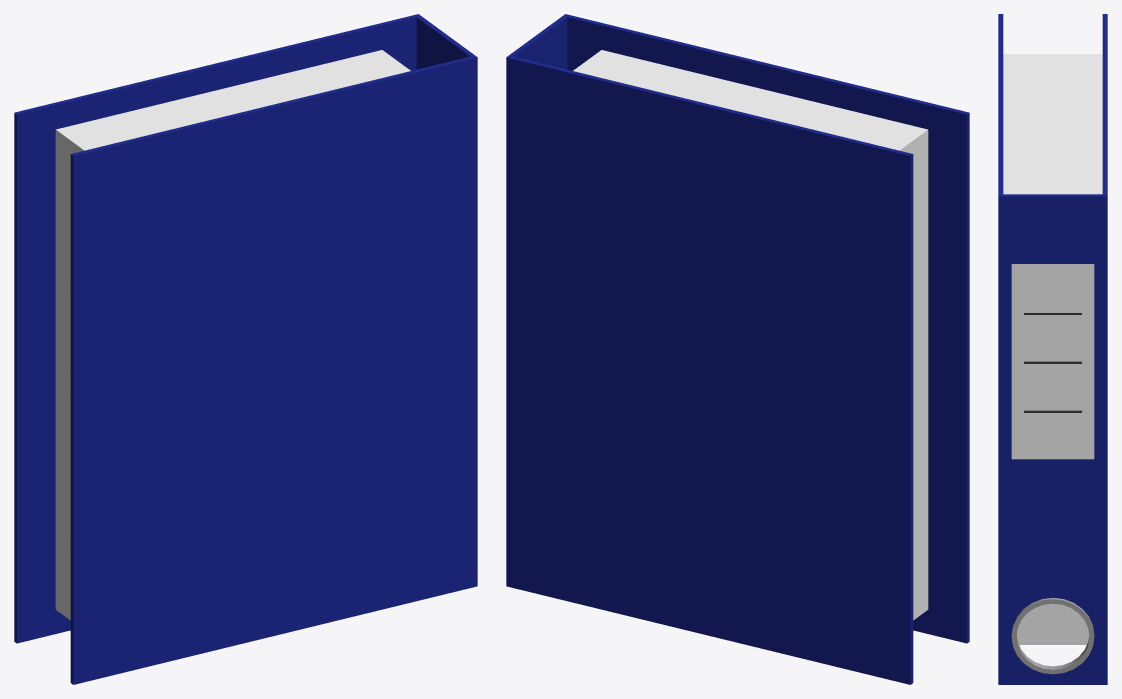
Rendered from map-blauw.fbx.
3 views of the same model, side by side, from view 1: azimuth 30°, elevation 25°; view 2: azimuth 150°, elevation 25°; view 3: azimuth 270°, elevation 25° (orthographic). The views are drawn at different scales.
Parts seen in each view (by area): view 1: Model; view 2: Model; view 3: Model.
Boxes of the visible parts, <box> form: Model: <box>14,14,477,684</box>; Model: <box>506,14,969,684</box>; Model: <box>998,14,1107,684</box>.
Bounding box in the file's own units: 2620 × 3250 × 660.
